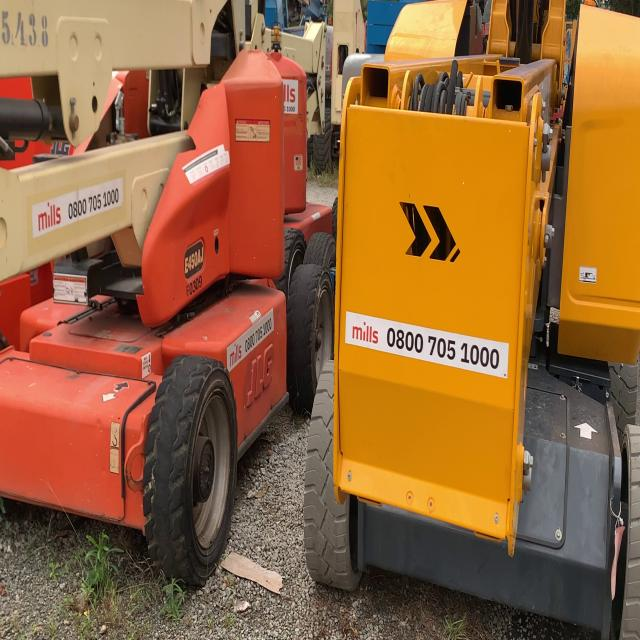Adesivo Longo: (344, 309, 510, 381), (32, 177, 124, 240), (226, 306, 275, 373)
